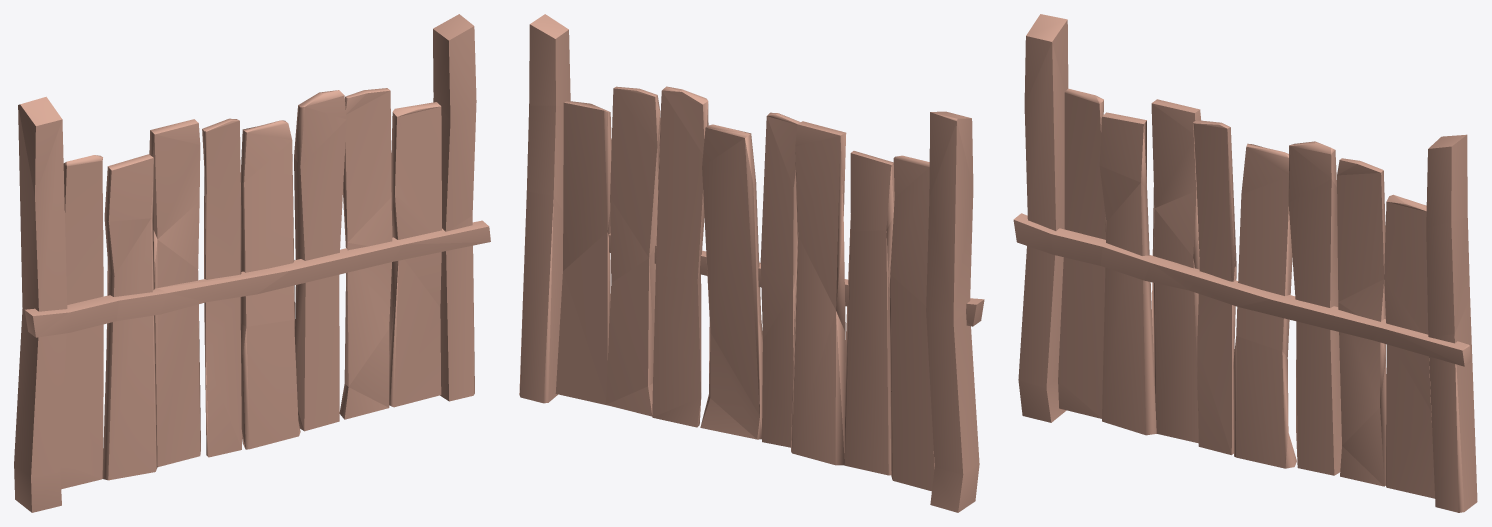
File: prop_fence_02.FBX
3 views of the same model, side by side, from view 1: azimuth 30°, elevation 25°; view 2: azimuth 150°, elevation 25°; view 3: azimuth 330°, elevation 25° (orthographic).
Parts seen in each view (by area): view 1: prop_fence_03; view 2: prop_fence_03; view 3: prop_fence_03.
Boxes of the visible parts, <box> form: prop_fence_03: <box>14,14,490,512</box>; prop_fence_03: <box>519,14,984,512</box>; prop_fence_03: <box>1013,14,1477,512</box>.
Bounding box in the file's own units: 282 × 234 × 25.25.
